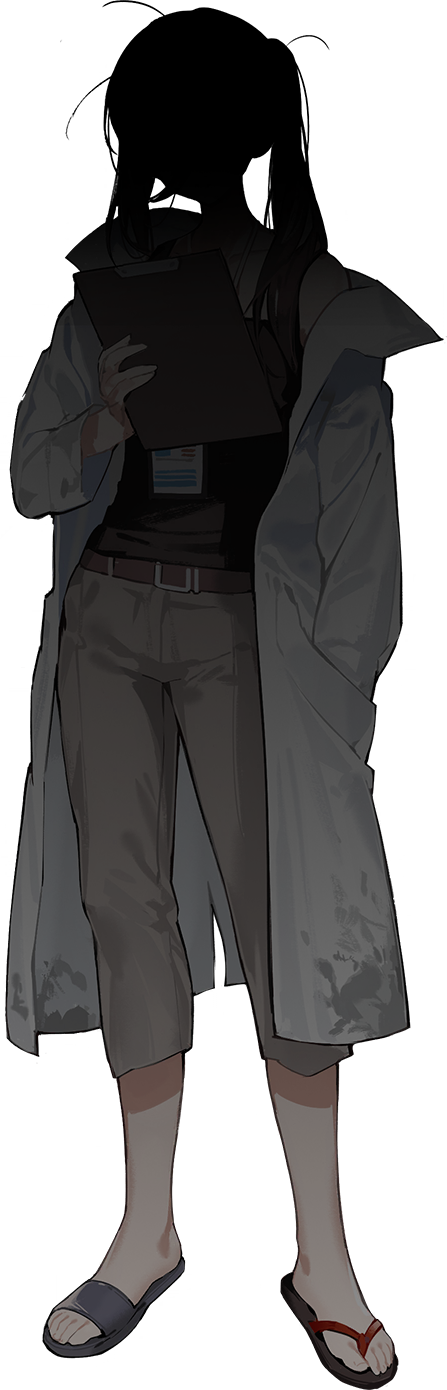person: (1, 12, 446, 1387)
